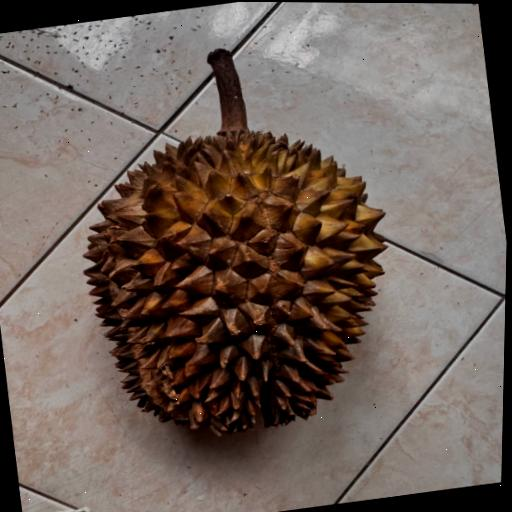rot: (20, 2, 453, 473)
